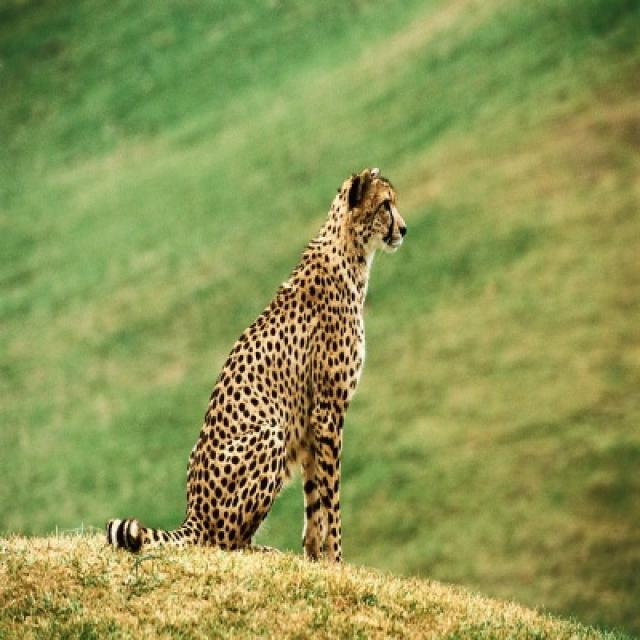Cheetah: (99, 157, 409, 557)
